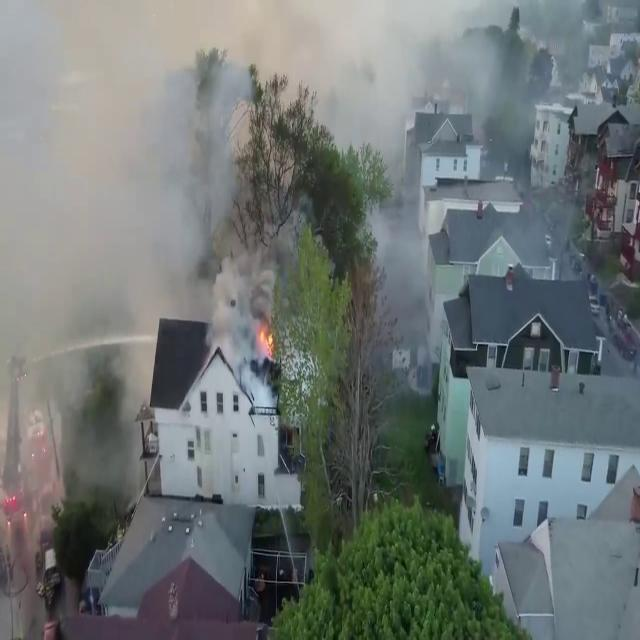Fire: (254, 318, 276, 364)
Smoke: (0, 0, 289, 366), (297, 0, 558, 186), (368, 175, 448, 388)
